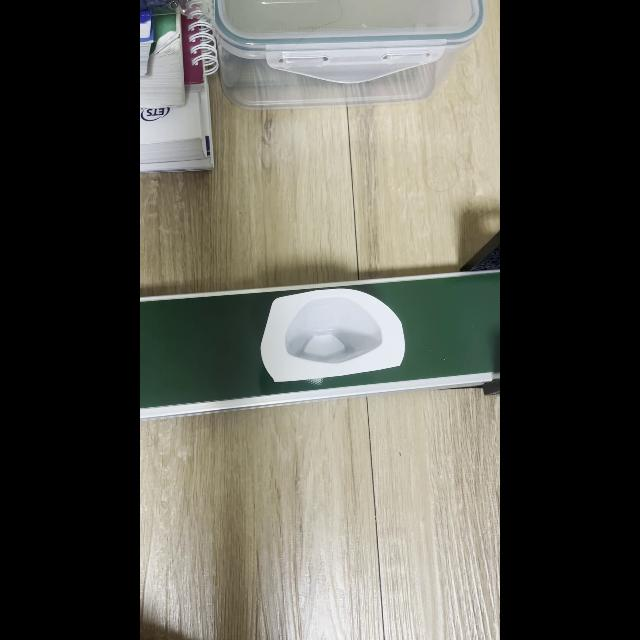clean: (270, 292, 388, 378)
